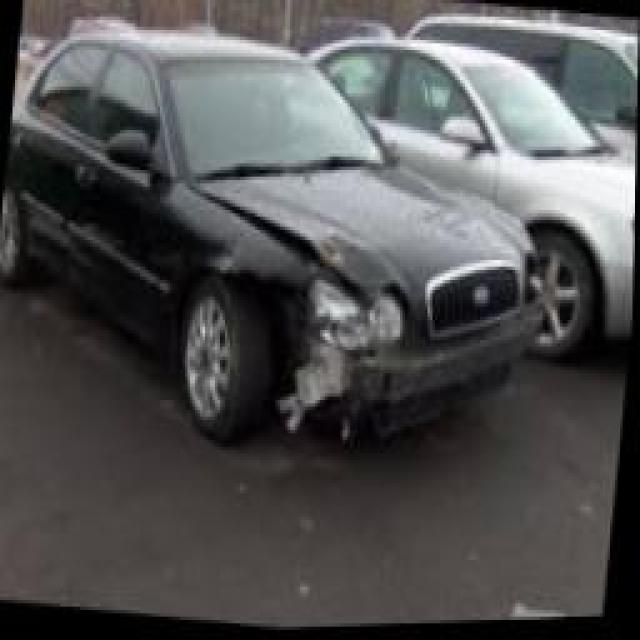Bumper: (290, 348, 448, 439)
